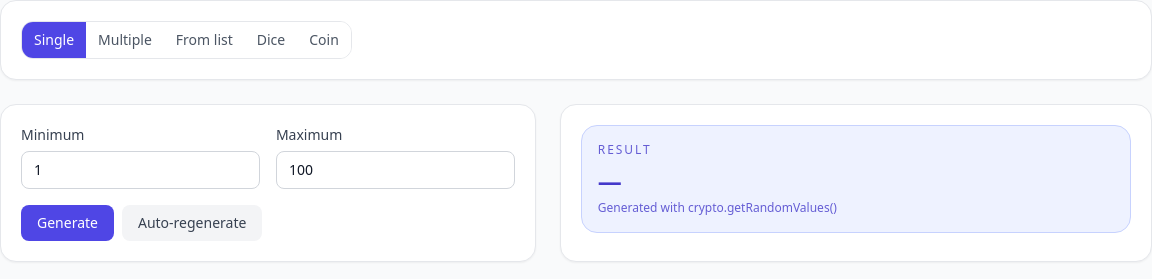
Scenario: RandomNumberGenerator – functional › generates a single random number
This screenshot has width=1152, height=279.
Click the button "Generate": [68, 223] box [21, 205, 114, 241]
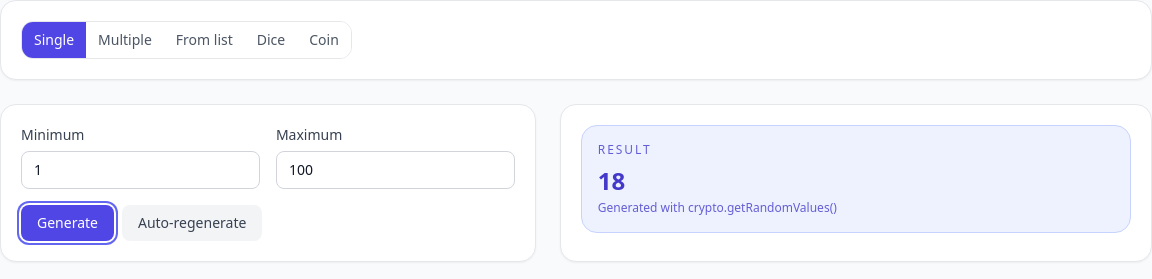
Expected: the text "18" is shown, [598, 164, 625, 197]
